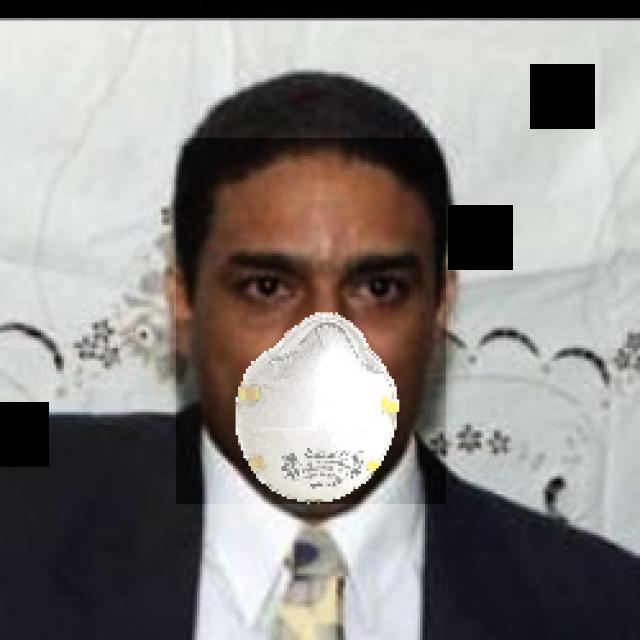n95: (176, 138, 446, 504)
